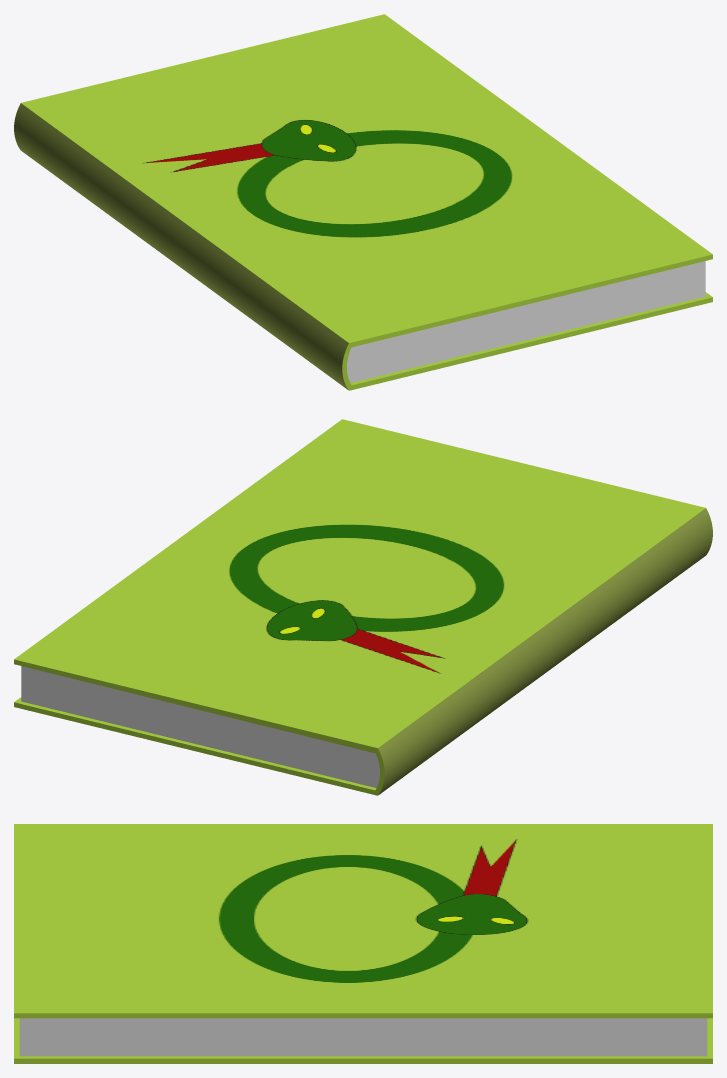
The model's file is charm book export.fbx.
The picture shows the model from 3 angles, top to bottom: view 1: azimuth 30°, elevation 25°; view 2: azimuth 150°, elevation 25°; view 3: azimuth 270°, elevation 25°; orthographic projection. The views are drawn at different scales.
Visible parts, largest first — view 1: book_shape:polySurface1; view 2: book_shape:polySurface1; view 3: book_shape:polySurface1.
Boxes of the visible parts, box(x1,y1,x2,y2) form: book_shape:polySurface1: box(14, 14, 712, 390); book_shape:polySurface1: box(14, 419, 712, 795); book_shape:polySurface1: box(14, 824, 712, 1063).
Size of the model in its own units: 16.3 by 2 by 25.
